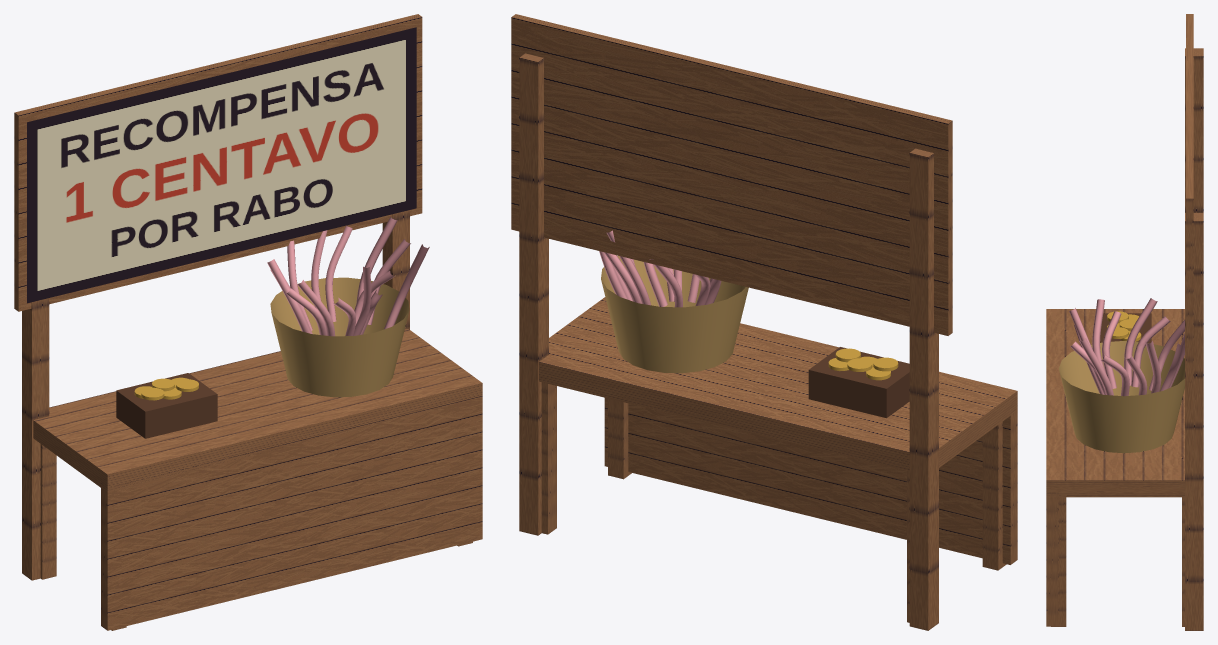
The model's file is balcao.glb.
3 views of the same model, side by side, from view 1: azimuth 30°, elevation 25°; view 2: azimuth 150°, elevation 25°; view 3: azimuth 270°, elevation 25° (orthographic). The views are drawn at different scales.
Size of the model in its own units: 2.8 by 3.1 by 1.01.
Materials: 14 (5 with a texture image).
